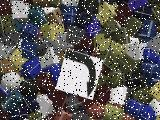Right: (56, 48, 104, 100)
